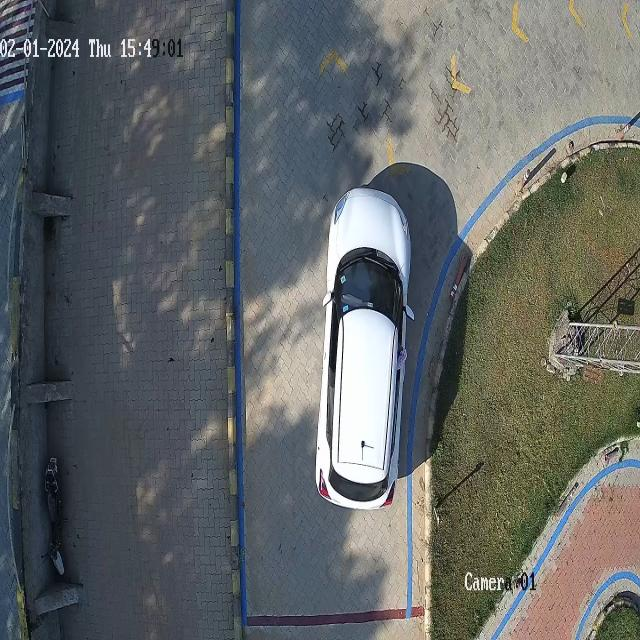car: (315, 189, 414, 509)
